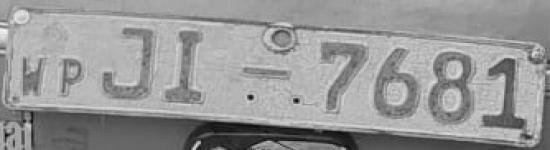-: (242, 63, 295, 82)
1: (480, 47, 530, 134)
6: (373, 38, 426, 124)
7: (310, 35, 374, 119)
8: (426, 47, 482, 130)
I: (163, 24, 220, 106)
J: (99, 20, 160, 106)
P: (57, 54, 88, 100)
W: (18, 52, 54, 101)
